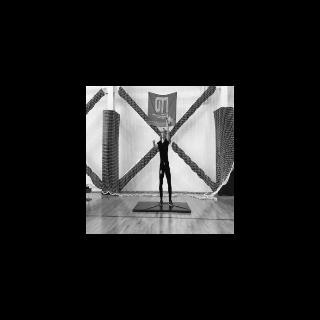kettlebell: (164, 116, 172, 127)
